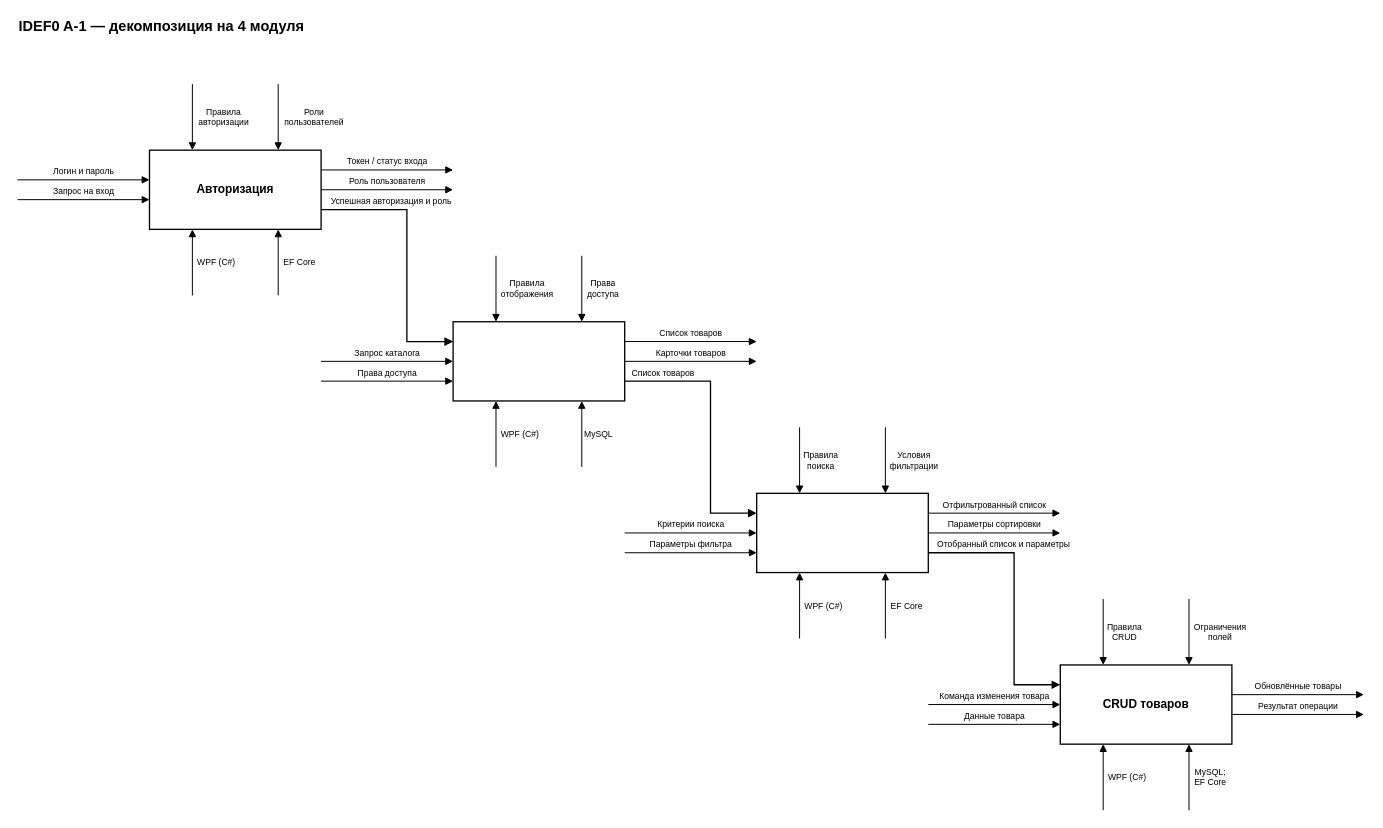
Image size: 1383x828. Some labels were removed from this diagram. The shapes that lost their labels are listed below. From the top down, each one's box as (x1, y1, x2, y2) in pixels, then its label:
(452, 321, 625, 401): Каталог
(756, 492, 929, 573): Поиск / фильтр / сортировка
